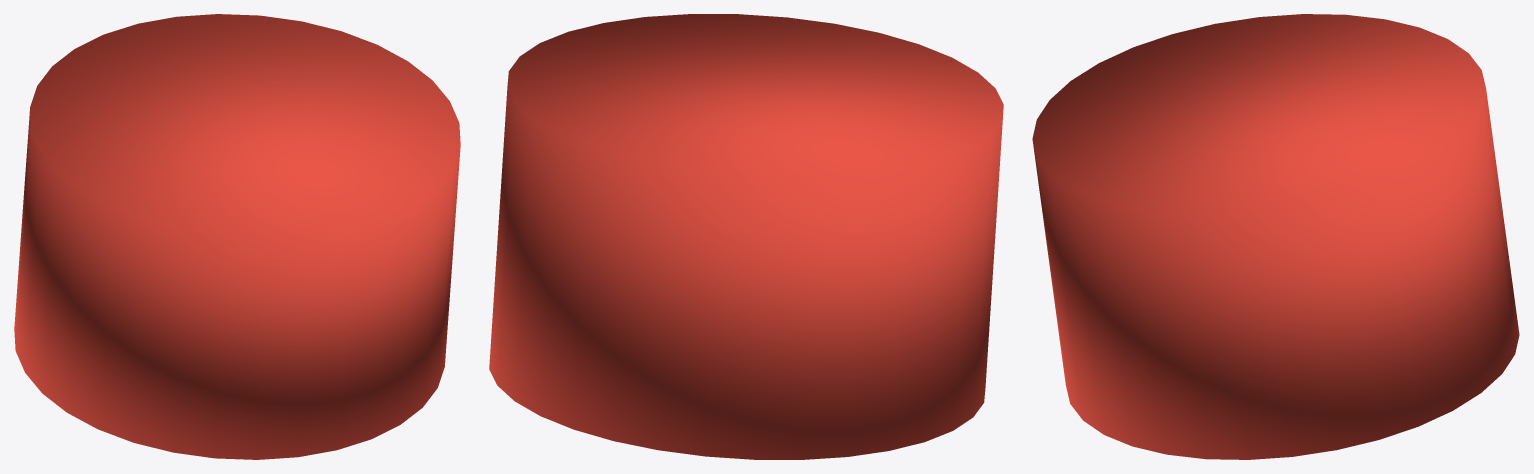
The model's file is Pop bumper mesh collider.fbx.
3 renders of one model, left to right at view 1: azimuth 30°, elevation 25°; view 2: azimuth 150°, elevation 25°; view 3: azimuth 270°, elevation 25°, orthographic. The views are drawn at different scales.
Visible parts, largest first — view 1: StallBouncer01.001; view 2: StallBouncer01.001; view 3: StallBouncer01.001.
Part boxes in pixels (x1,y1,x2,y2): StallBouncer01.001: [14, 14, 460, 459]; StallBouncer01.001: [489, 14, 1003, 459]; StallBouncer01.001: [1032, 14, 1519, 459].
Size of the model in its own units: 500 by 359 by 533.
